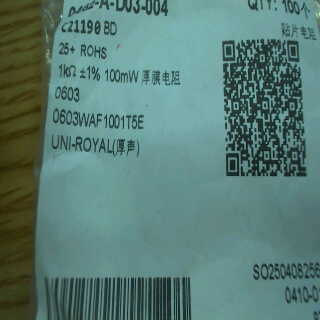1kR: (55, 56, 80, 81)
